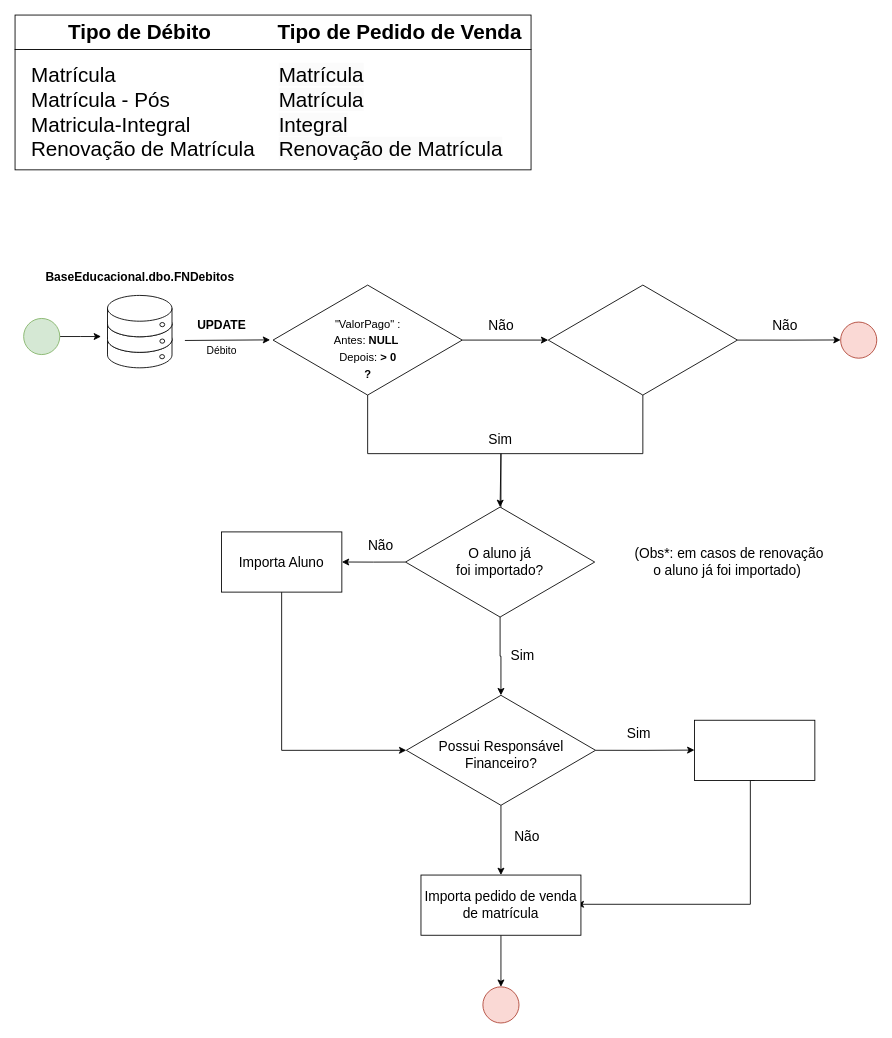
The diagram is 892 pixels wide and 1038 high, and some of its shapes have lost their labels. Each missing label, with the centre of its shape:
"Abonado" : Antes: 0 Depois: 1 ?: (642,339)
Importa Responsável FInanceiro: (754,749)
